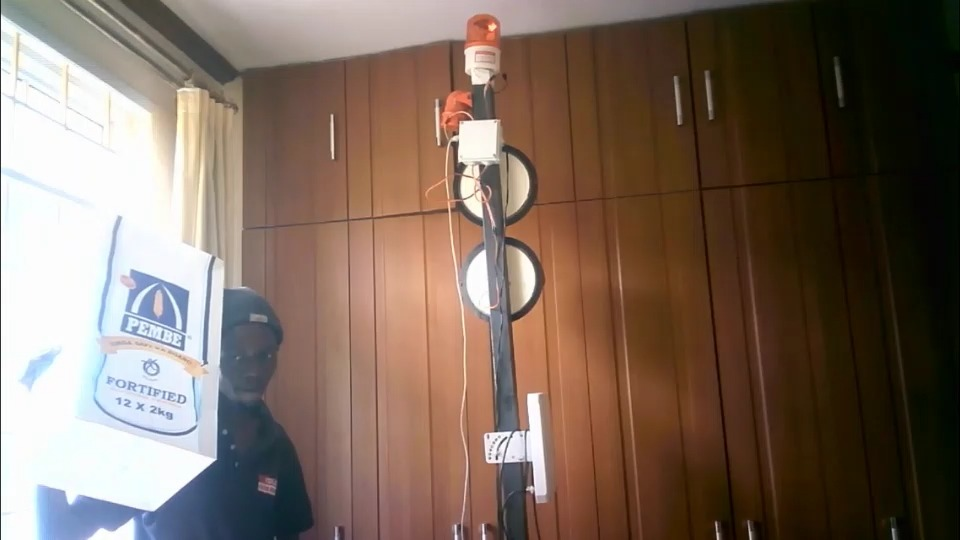wheat_flour_blue_label: (30, 203, 229, 514)
